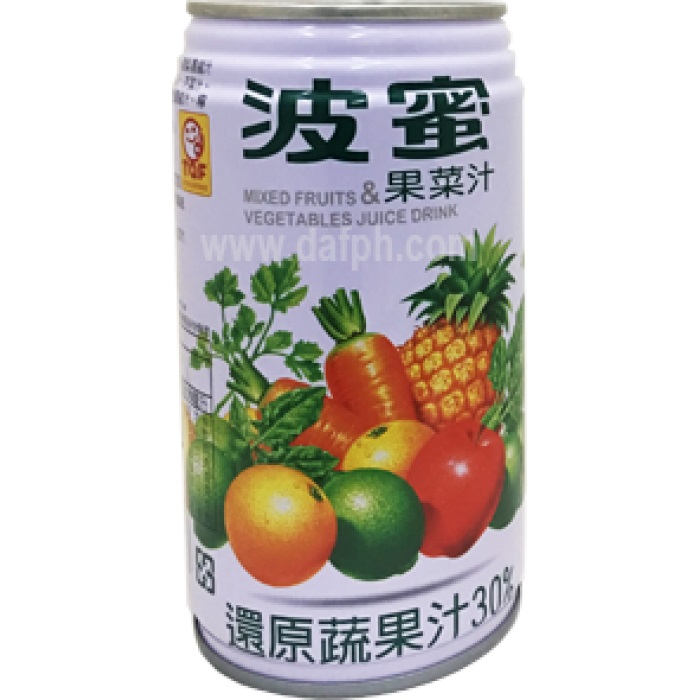vegetables juice: (131, 1, 530, 692)
